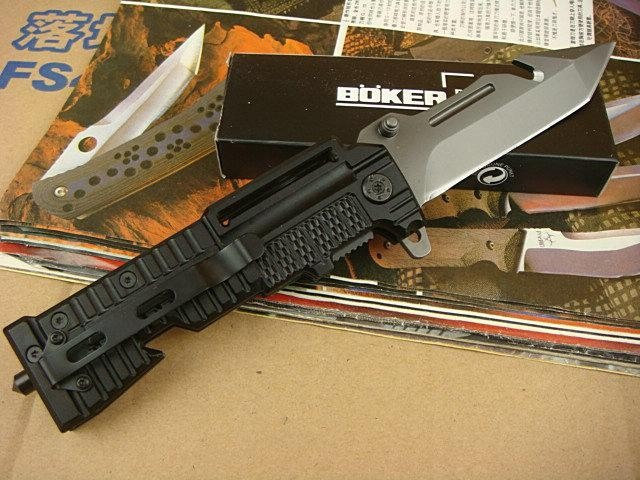knife: (364, 31, 627, 217)
